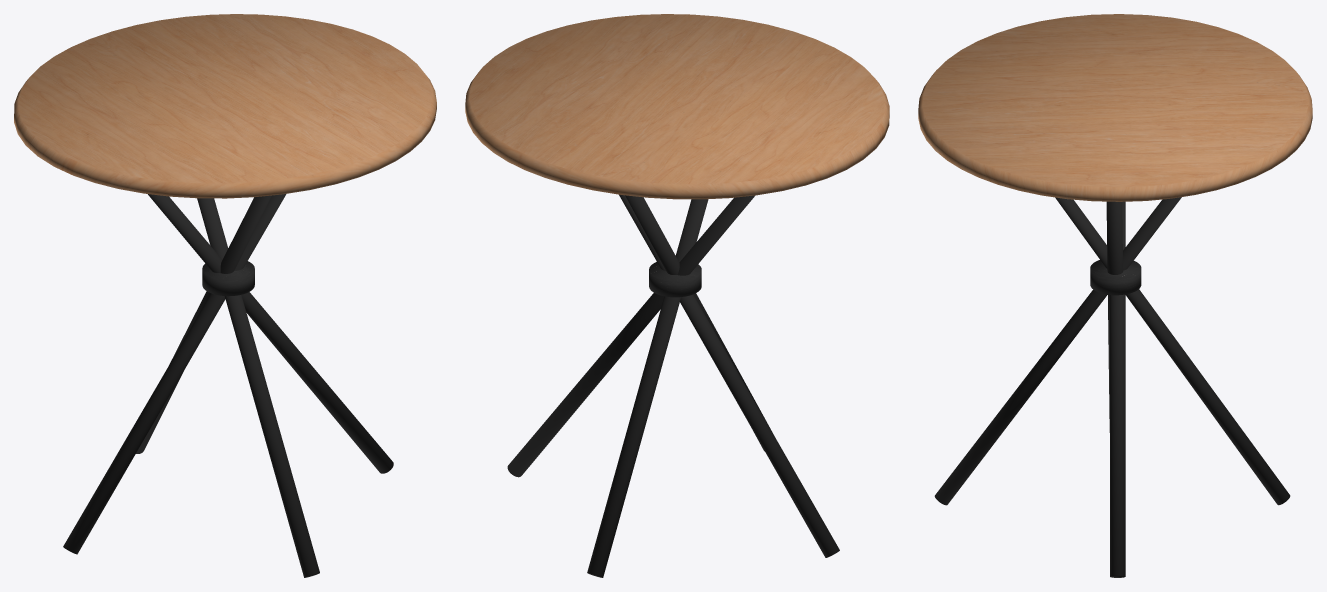
3 renders of one model, left to right at view 1: azimuth 30°, elevation 25°; view 2: azimuth 150°, elevation 25°; view 3: azimuth 270°, elevation 25°, orthographic. The views are drawn at different scales.
Visible parts, largest first — view 1: Círculo Bézier.001; view 2: Círculo Bézier.001; view 3: Círculo Bézier.001.
Boxes of the visible parts, x1,y1,x2,y2 form: Círculo Bézier.001: (14,14,436,577); Círculo Bézier.001: (465,14,889,577); Círculo Bézier.001: (918,14,1312,577).
Size of the model in its own units: 3.63 by 3.91 by 3.43.
Materials: 2 (2 with a texture image).
